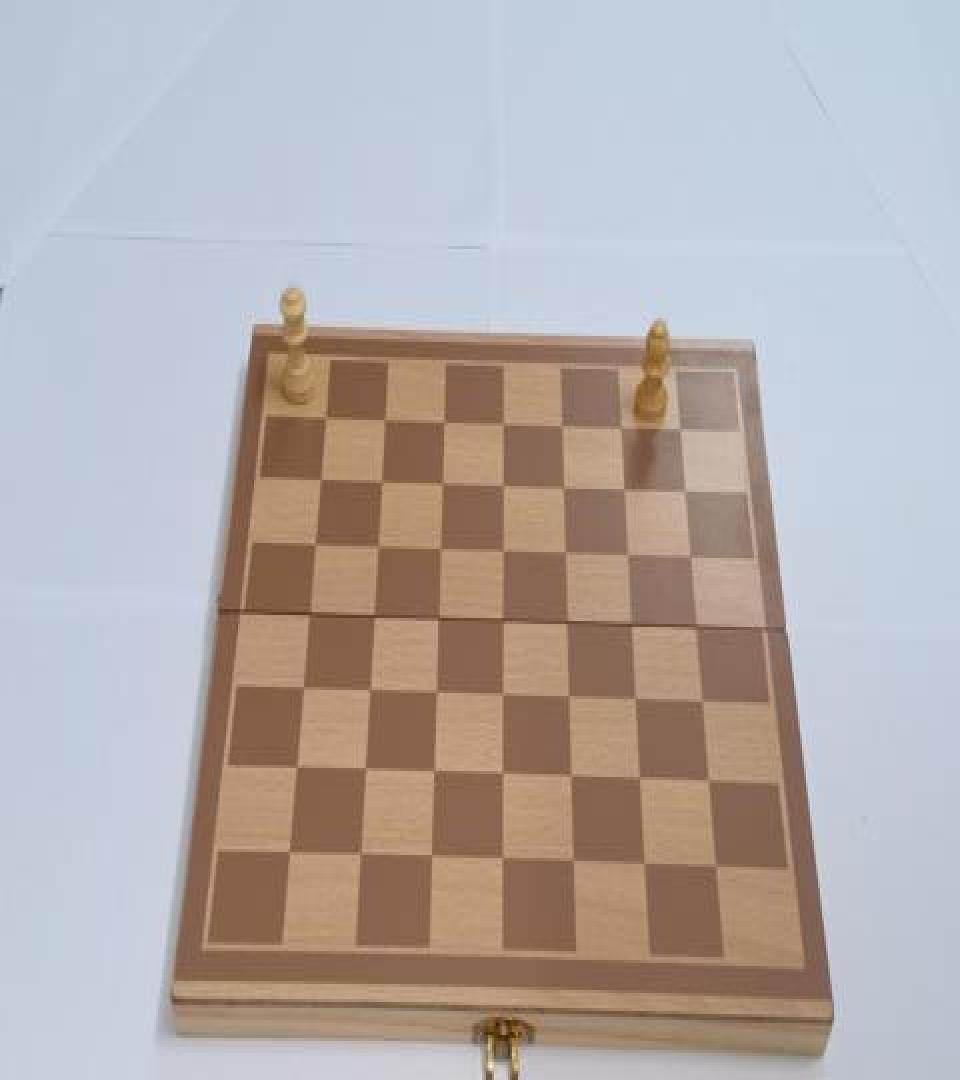xcorner: (316, 406, 334, 434), (426, 760, 444, 788), (677, 478, 695, 506), (311, 468, 329, 495), (305, 532, 323, 559), (300, 603, 318, 630), (294, 676, 312, 703), (287, 756, 305, 783), (281, 840, 299, 867), (375, 408, 393, 435), (372, 470, 390, 497), (365, 604, 383, 631), (352, 843, 370, 870), (433, 471, 451, 498), (431, 537, 449, 564), (430, 606, 448, 633), (428, 681, 446, 708), (424, 844, 442, 871), (494, 411, 512, 438), (494, 474, 512, 501), (494, 538, 512, 565), (495, 609, 513, 636), (495, 683, 513, 710), (496, 762, 514, 789), (553, 414, 571, 441), (560, 610, 578, 637), (568, 849, 586, 876), (612, 415, 630, 442), (616, 477, 634, 504), (620, 543, 638, 570), (625, 612, 643, 639), (629, 687, 647, 714), (634, 766, 652, 793), (639, 851, 657, 878), (672, 417, 690, 444), (683, 545, 701, 572), (689, 615, 707, 642), (696, 689, 714, 716), (703, 768, 721, 795), (368, 536, 386, 562), (361, 680, 379, 706), (357, 758, 375, 784), (434, 410, 452, 436), (496, 848, 514, 874), (555, 476, 573, 502), (557, 542, 575, 568), (562, 686, 580, 712), (565, 764, 583, 790), (711, 854, 729, 880)
